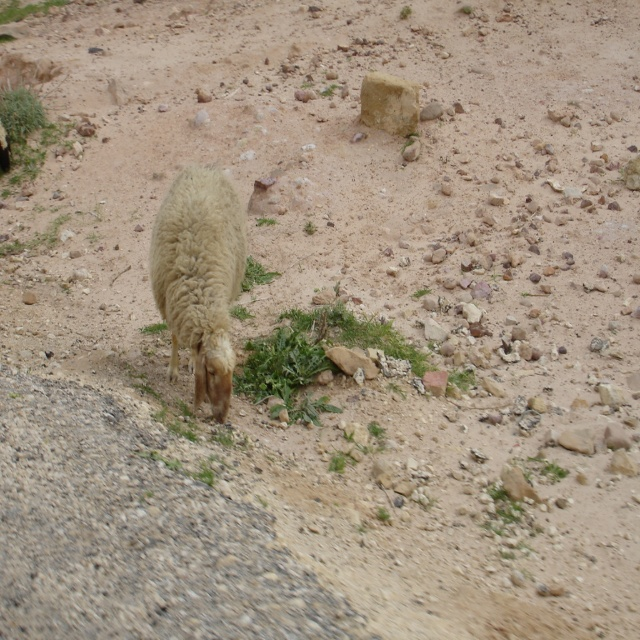Sheep: (147, 162, 247, 423)
